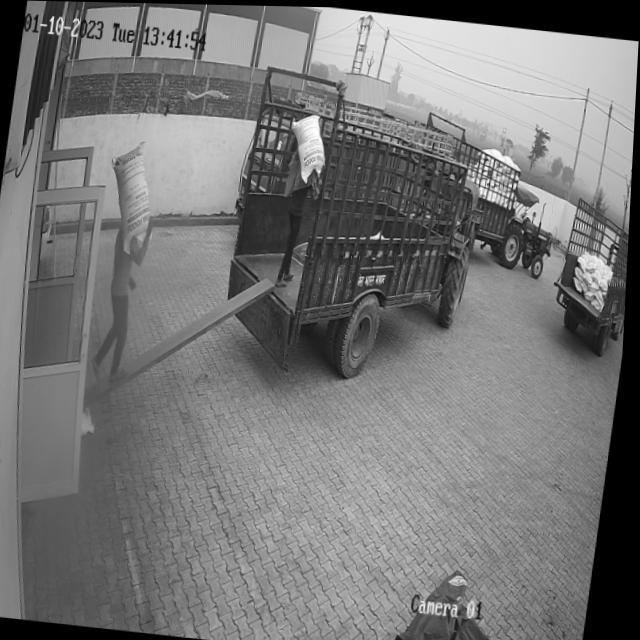sack: (101, 137, 162, 256), (285, 110, 332, 184)
